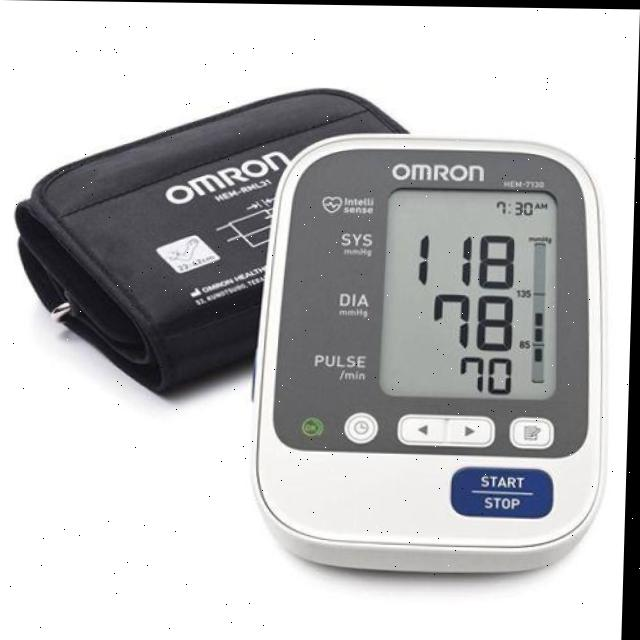dia: (418, 283, 530, 358)
pul: (451, 348, 522, 401)
ssd: (381, 186, 571, 400)
sys: (405, 221, 526, 291)
